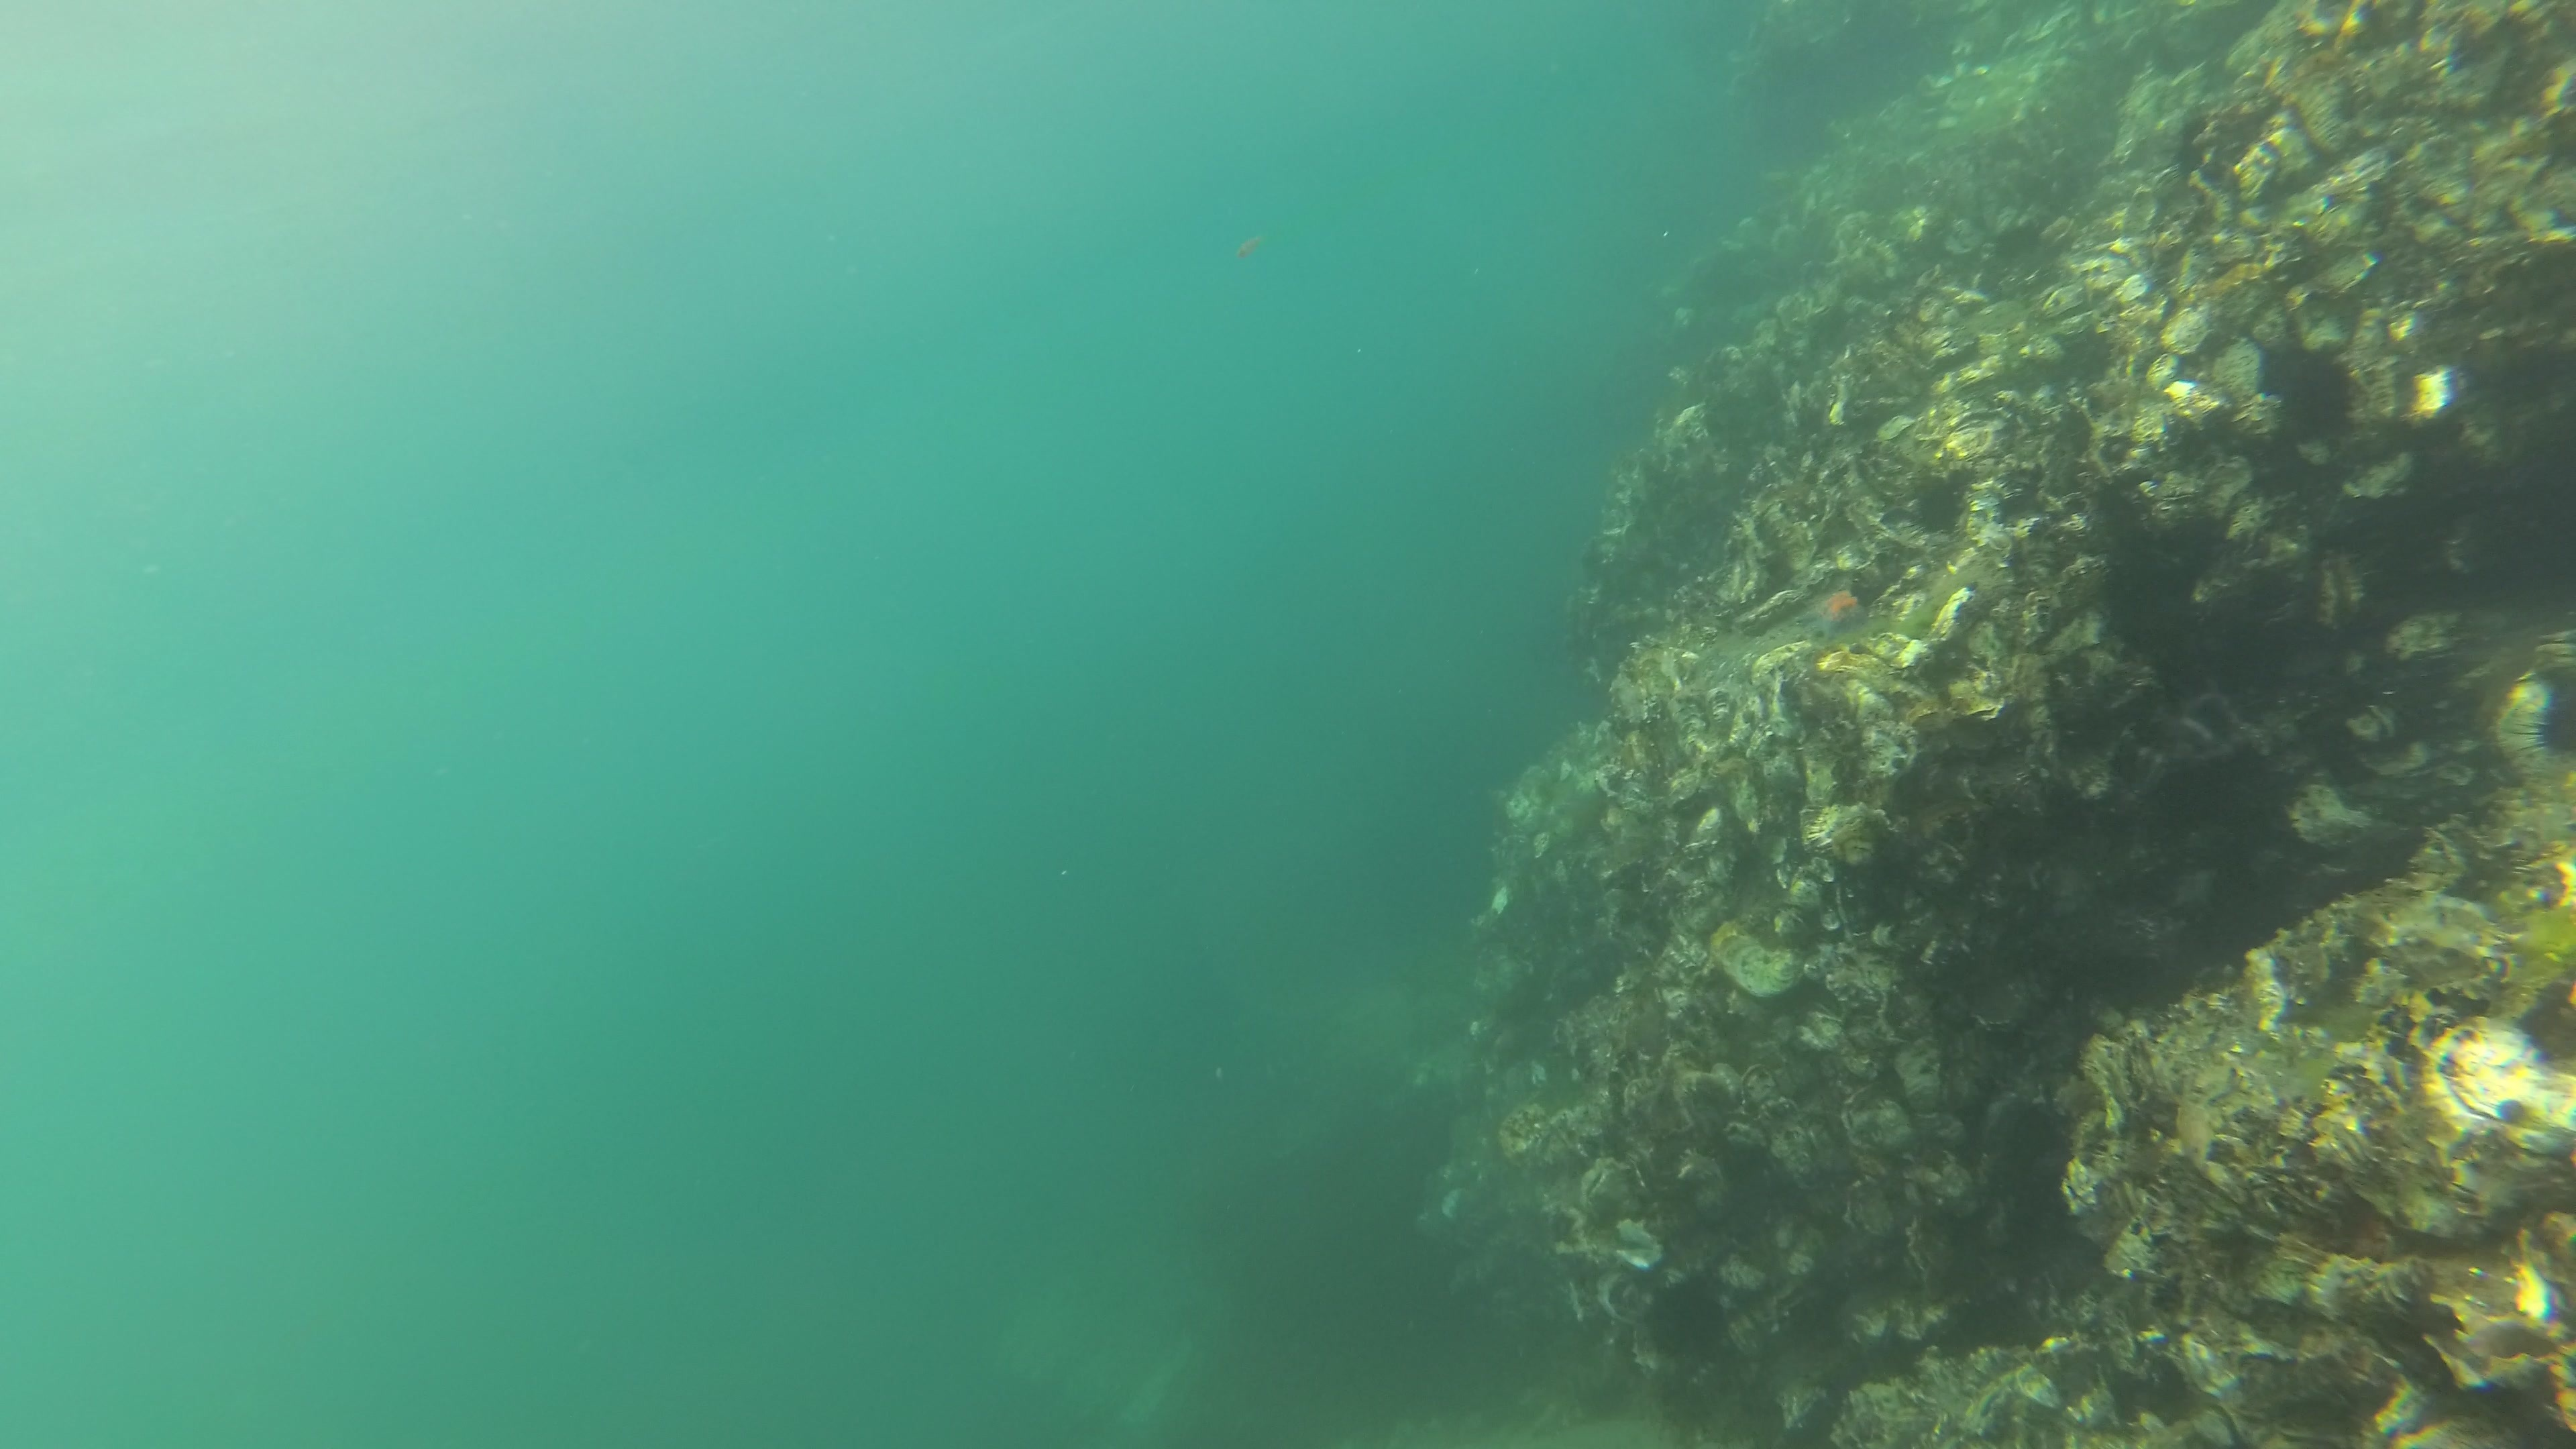echinus: (1644, 1270, 1725, 1362), (2521, 697, 2576, 764), (1909, 488, 1960, 538)
starfish: (1794, 591, 1870, 639)
